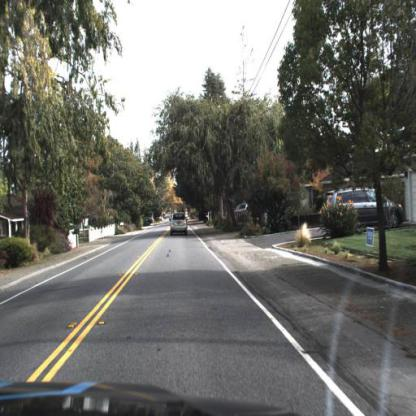car: (323, 181, 406, 237), (168, 209, 189, 238), (235, 195, 253, 217)
